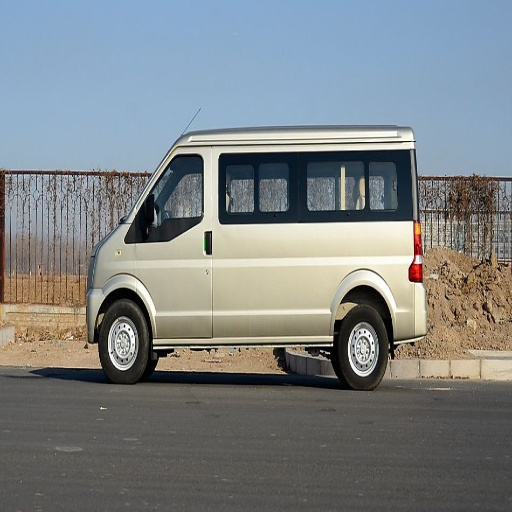back_left_door: (232, 151, 328, 332)
trunk: (320, 226, 420, 337)
